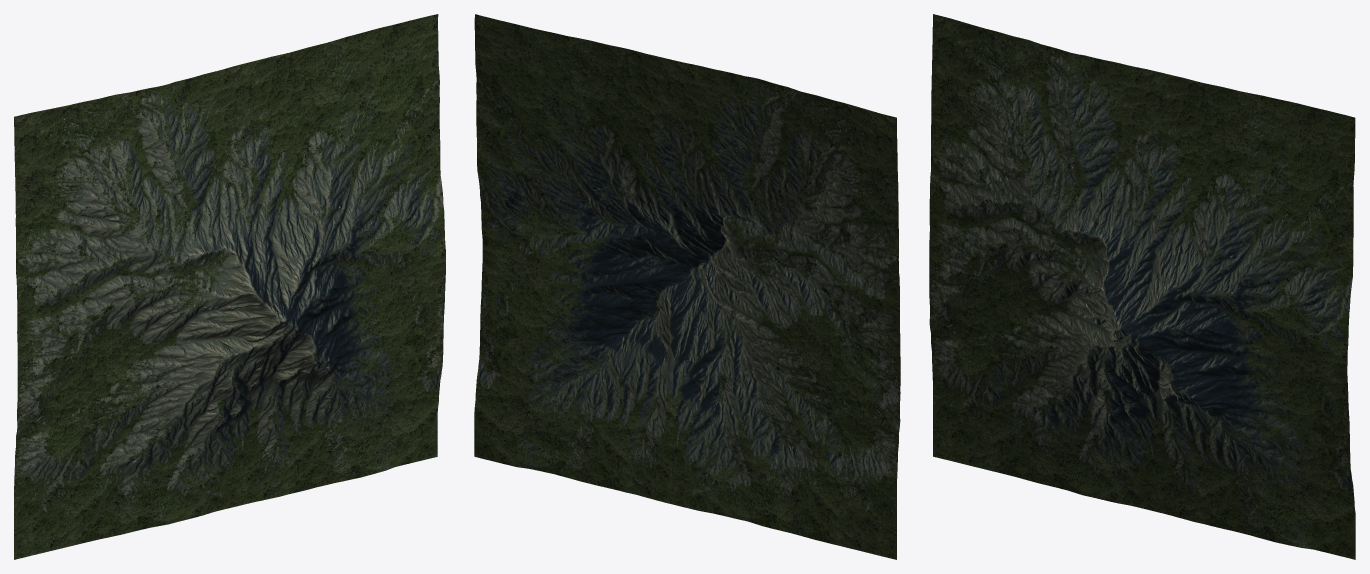
3 renders of one model, left to right at view 1: azimuth 30°, elevation 25°; view 2: azimuth 150°, elevation 25°; view 3: azimuth 330°, elevation 25°, orthographic.
Parts seen in each view (by area): view 1: mount_a_0; view 2: mount_a_0; view 3: mount_a_0.
Part boxes in pixels (x1,y1,x2,y2): mount_a_0: (14,14,445,559); mount_a_0: (474,14,900,559); mount_a_0: (929,14,1355,559).
Size of the model in its own units: 402406 by 402406 by 69845.
